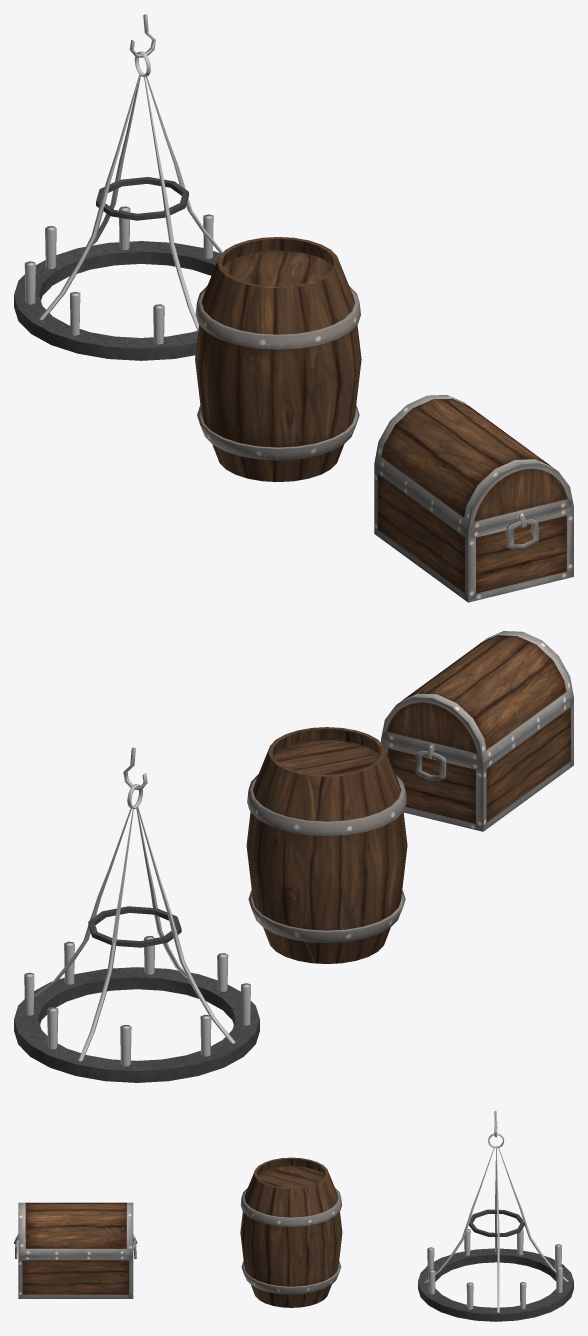
The model's file is barrel_chest_chandelier.fbx.
The picture shows the model from 3 angles, top to bottom: view 1: azimuth 30°, elevation 25°; view 2: azimuth 150°, elevation 25°; view 3: azimuth 270°, elevation 25°; orthographic projection. The views are drawn at different scales.
Parts seen in each view (by area): view 1: lab_assets25:FASS_OIDA2_pCylinder3, lab_assets25:pCube29, lab_assets25:polySurface68; view 2: lab_assets25:FASS_OIDA2_pCylinder3, lab_assets25:pCube29, lab_assets25:polySurface68; view 3: lab_assets25:FASS_OIDA2_pCylinder3, lab_assets25:pCube29, lab_assets25:polySurface68.
Boxes of the visible parts, x1,y1,x2,y2 form: lab_assets25:FASS_OIDA2_pCylinder3: [195, 237, 361, 481]; lab_assets25:pCube29: [374, 395, 573, 602]; lab_assets25:polySurface68: [14, 14, 222, 360]; lab_assets25:FASS_OIDA2_pCylinder3: [246, 727, 407, 963]; lab_assets25:pCube29: [381, 631, 573, 831]; lab_assets25:polySurface68: [14, 747, 259, 1082]; lab_assets25:FASS_OIDA2_pCylinder3: [240, 1157, 342, 1307]; lab_assets25:pCube29: [14, 1202, 137, 1298]; lab_assets25:polySurface68: [418, 1111, 573, 1321].
Bounding box in the file's own units: 3.23 × 4.36 × 11.59.
2 materials, 1 textured.
